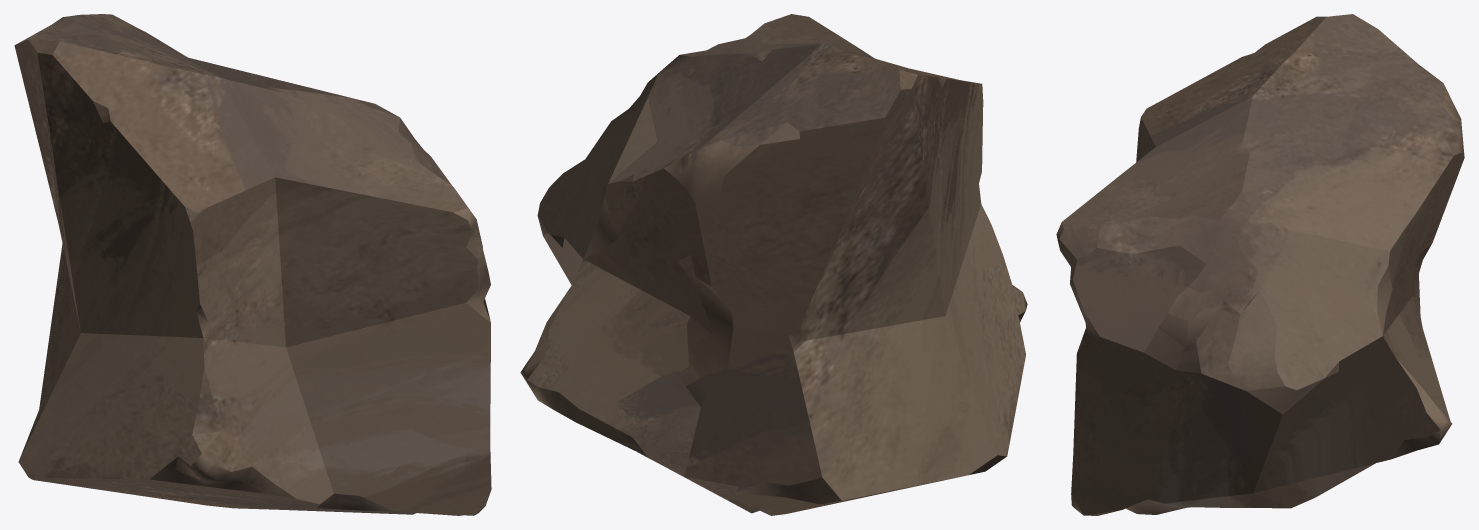
Rendered from P_ROCK 3.fbx.
The picture shows the model from 3 angles, left to right: view 1: azimuth 30°, elevation 25°; view 2: azimuth 150°, elevation 25°; view 3: azimuth 270°, elevation 25°; orthographic projection. The views are drawn at different scales.
Visible parts, largest first — view 1: Rock_03; view 2: Rock_03; view 3: Rock_03.
Boxes of the visible parts, bbox=[...] form: Rock_03: bbox=[14, 14, 491, 515]; Rock_03: bbox=[520, 14, 1027, 515]; Rock_03: bbox=[1056, 14, 1464, 515].
Bounding box in the file's own units: 165 × 172 × 150.
